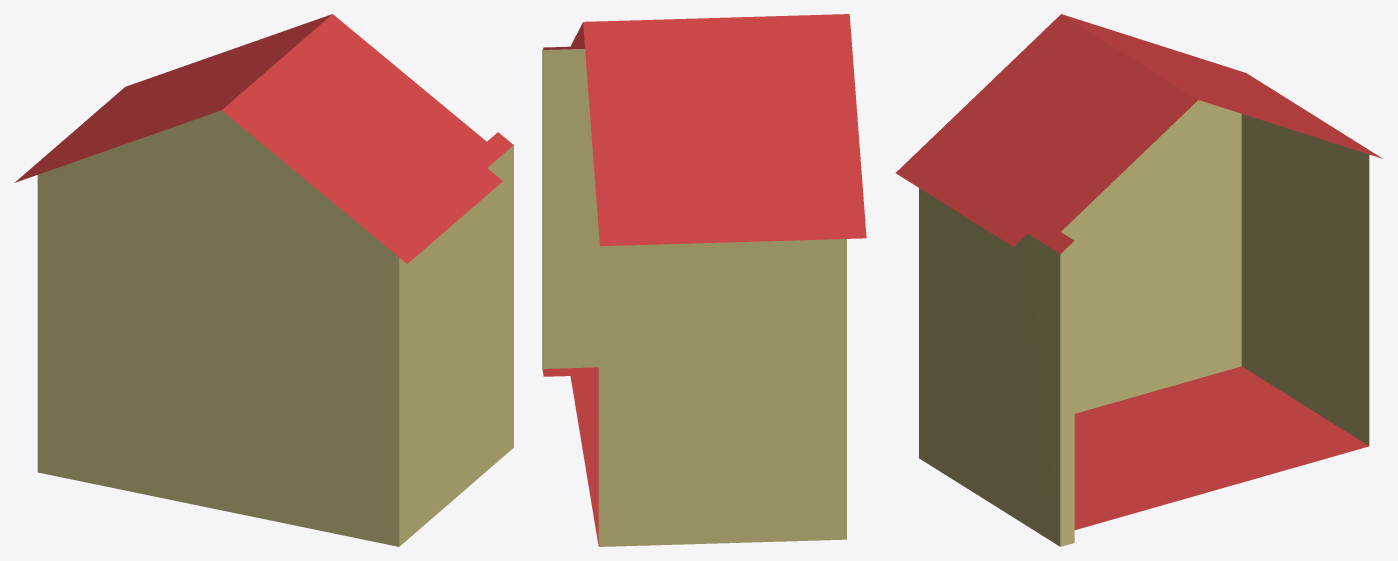
3 views of the same model, side by side, from view 1: azimuth 30°, elevation 25°; view 2: azimuth 150°, elevation 25°; view 3: azimuth 270°, elevation 25° (orthographic). The views are drawn at different scales.
Bounding box in the file's own units: 13.27 × 14.36 × 12.83.
